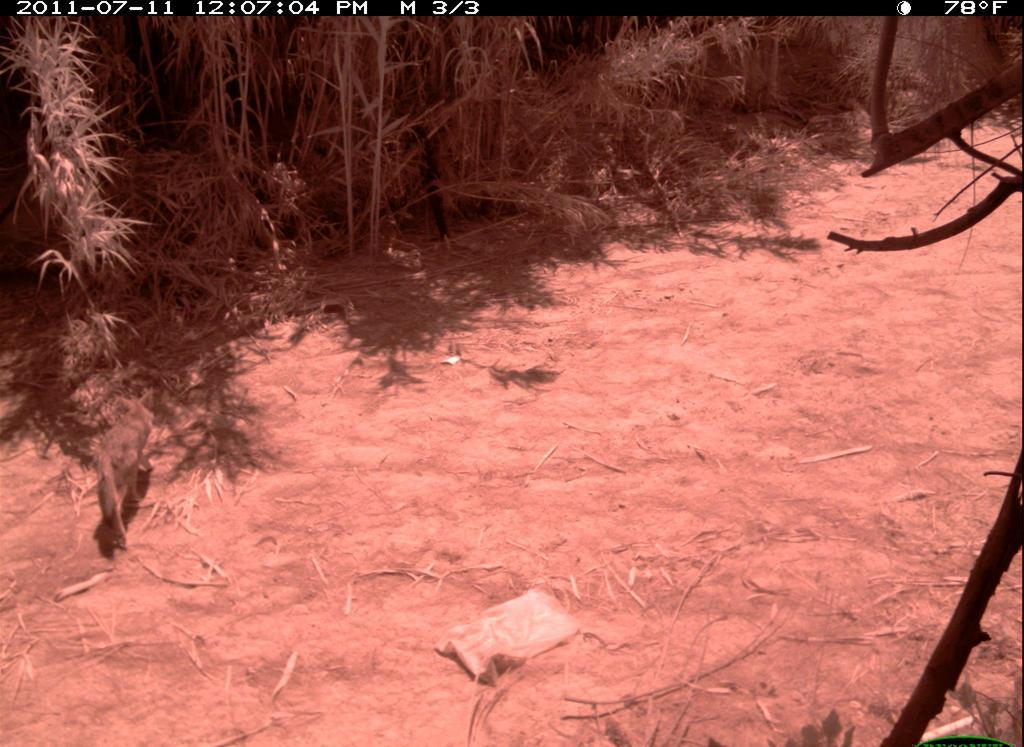coyote: (88, 377, 166, 559)
